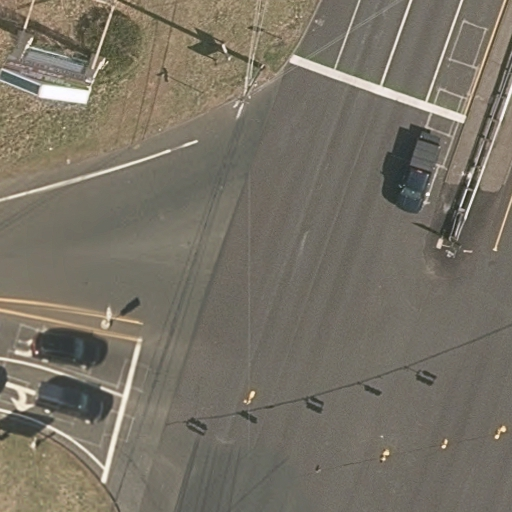DT: (226, 50, 273, 111)
